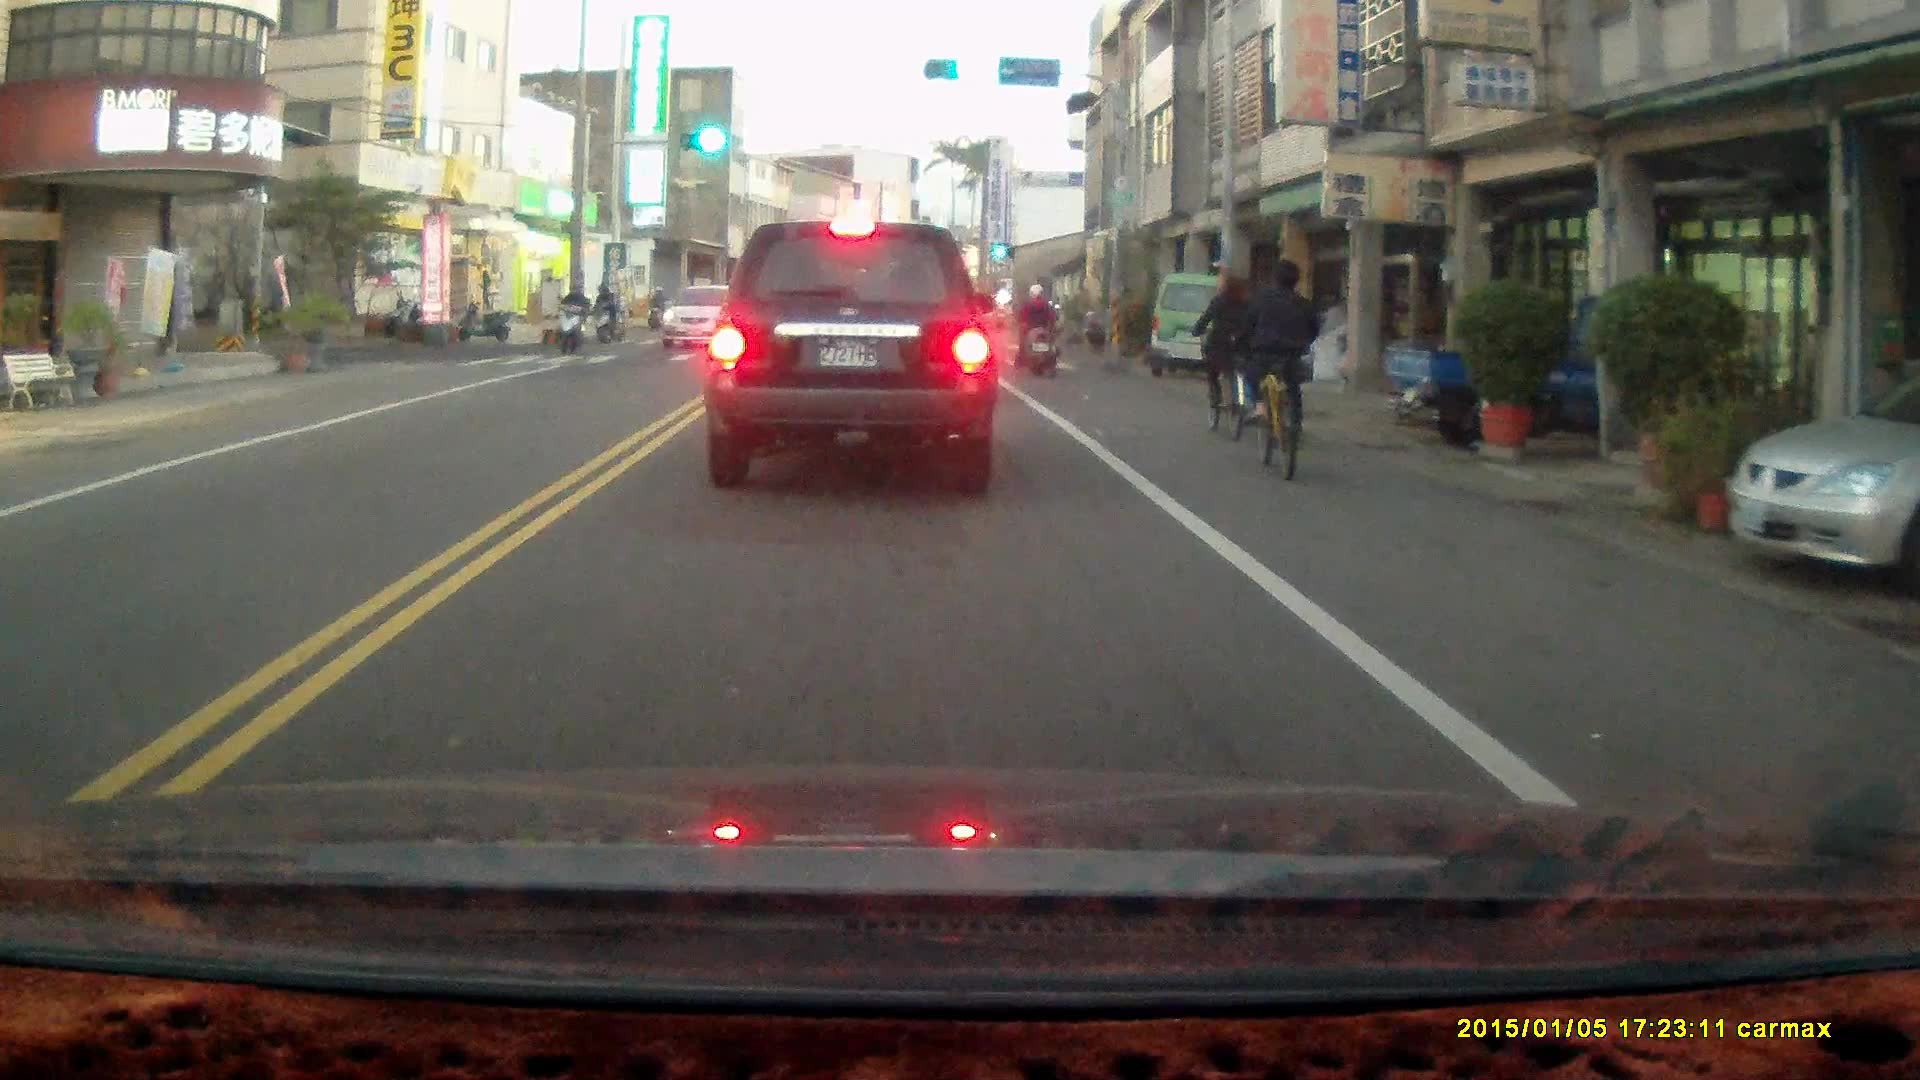pedestrian: (471, 261, 491, 308)
rider: (1235, 255, 1322, 482), (1190, 276, 1253, 442), (1007, 282, 1062, 379), (552, 278, 589, 357), (589, 282, 622, 345), (645, 284, 667, 331)
vehicle: (702, 220, 1002, 498), (1725, 343, 1920, 604), (1152, 277, 1253, 376), (654, 286, 755, 356)
